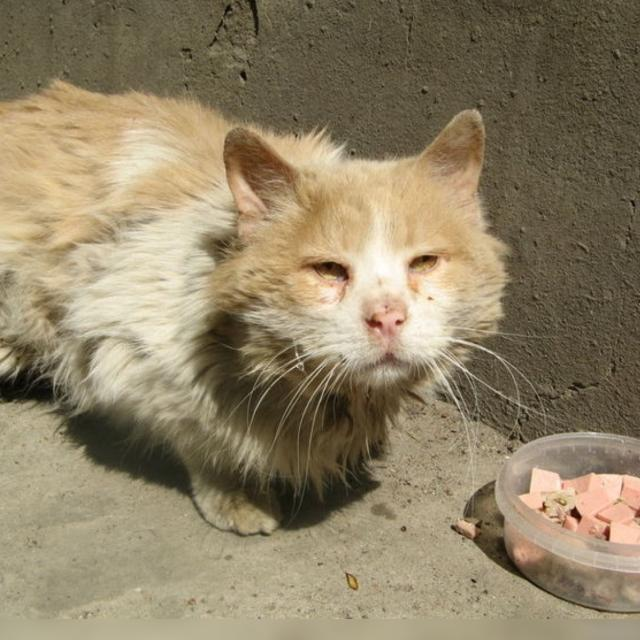animals: (0, 82, 504, 534)
